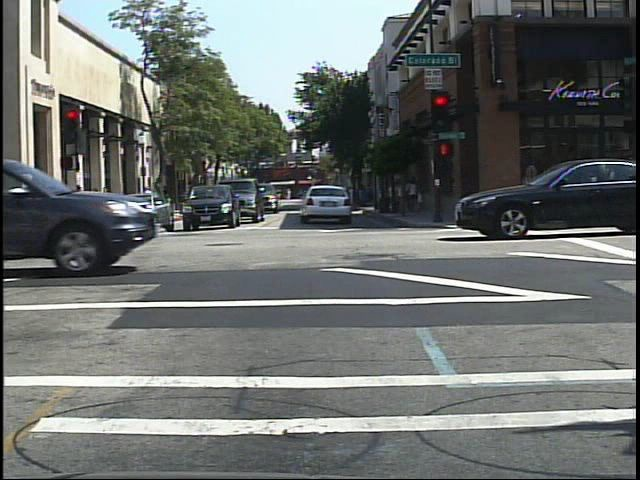person: (158, 180, 176, 215), (139, 182, 157, 212), (96, 190, 97, 228)
